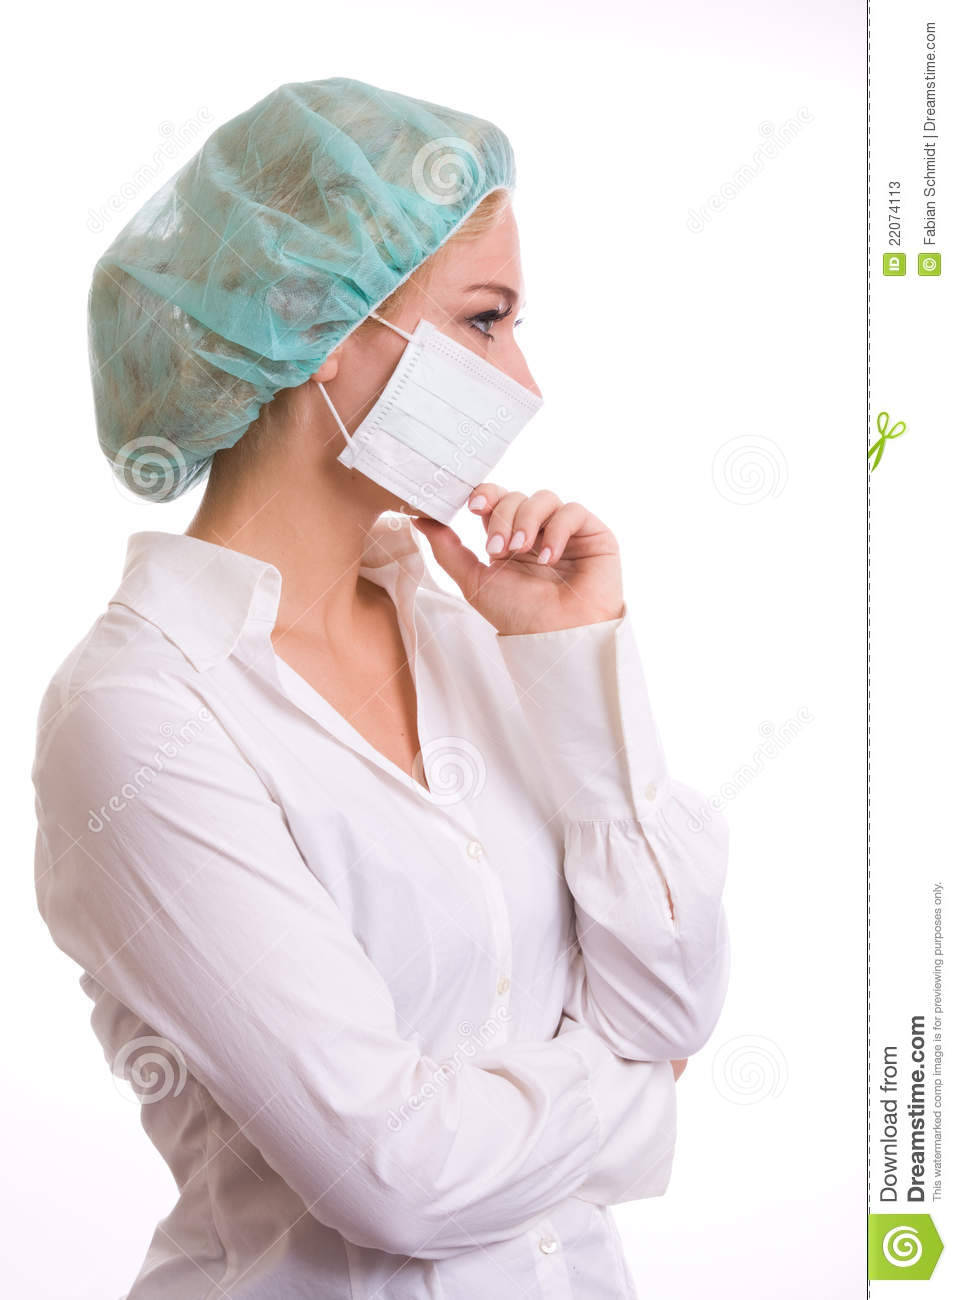mask: (334, 317, 546, 531)
